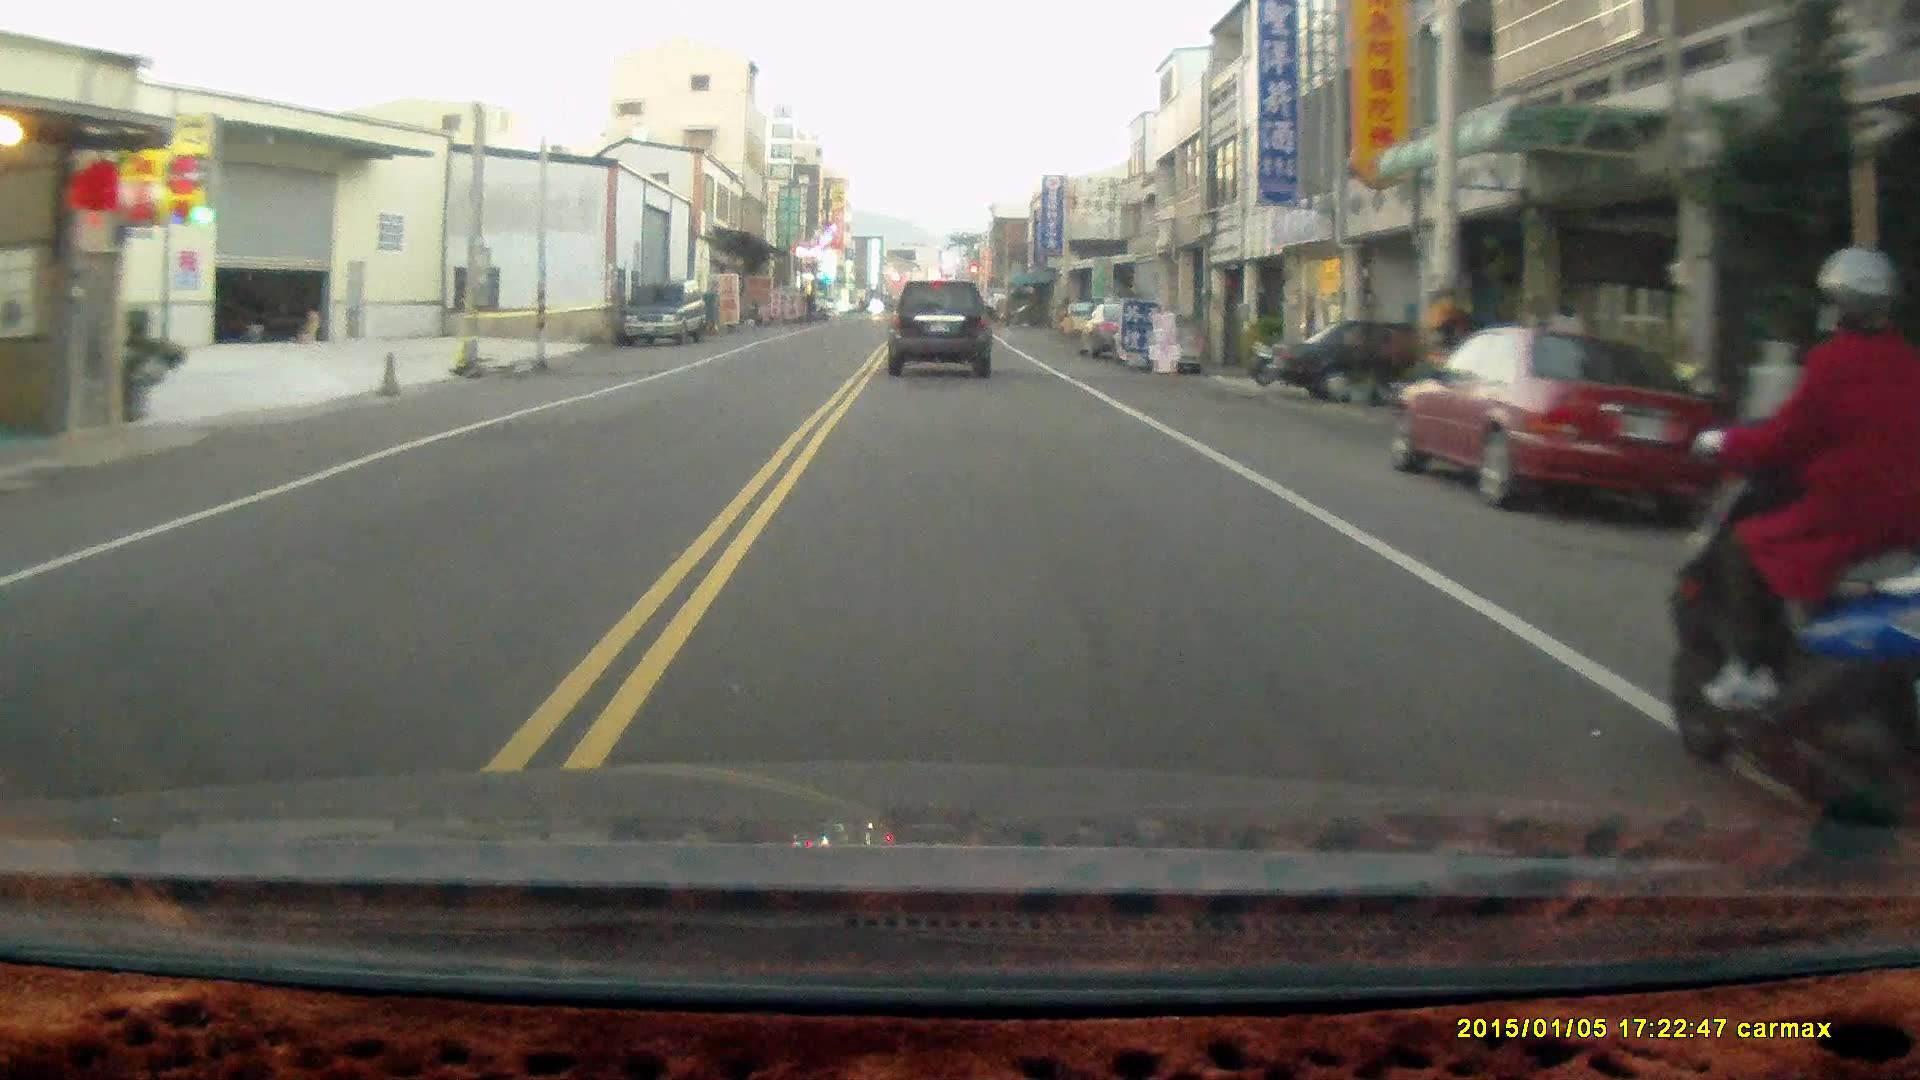rider: (1669, 249, 1913, 834)
vehicle: (1392, 324, 1748, 524), (1254, 311, 1500, 399), (887, 280, 995, 383), (613, 282, 713, 348)
